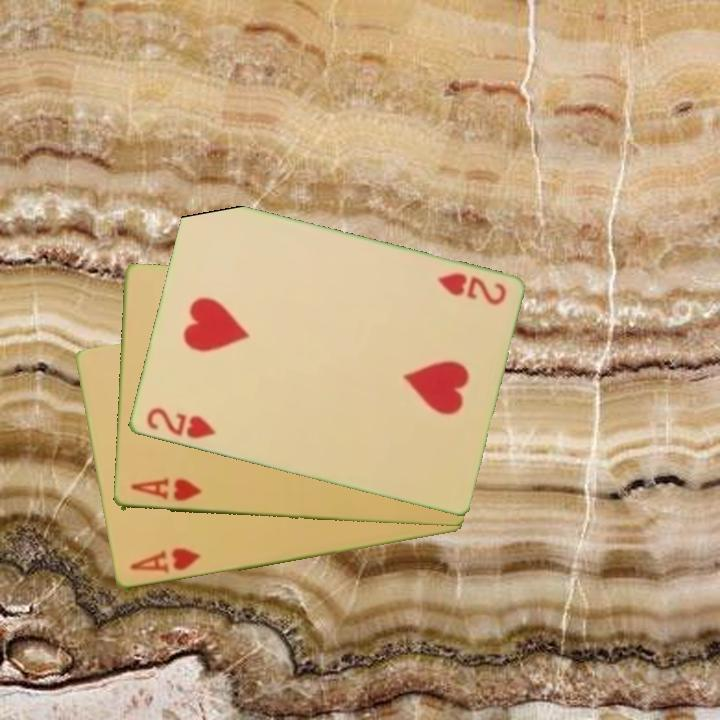2h: (434, 269, 509, 309), (142, 404, 218, 442)
Ah: (126, 545, 203, 577), (126, 475, 204, 504)
